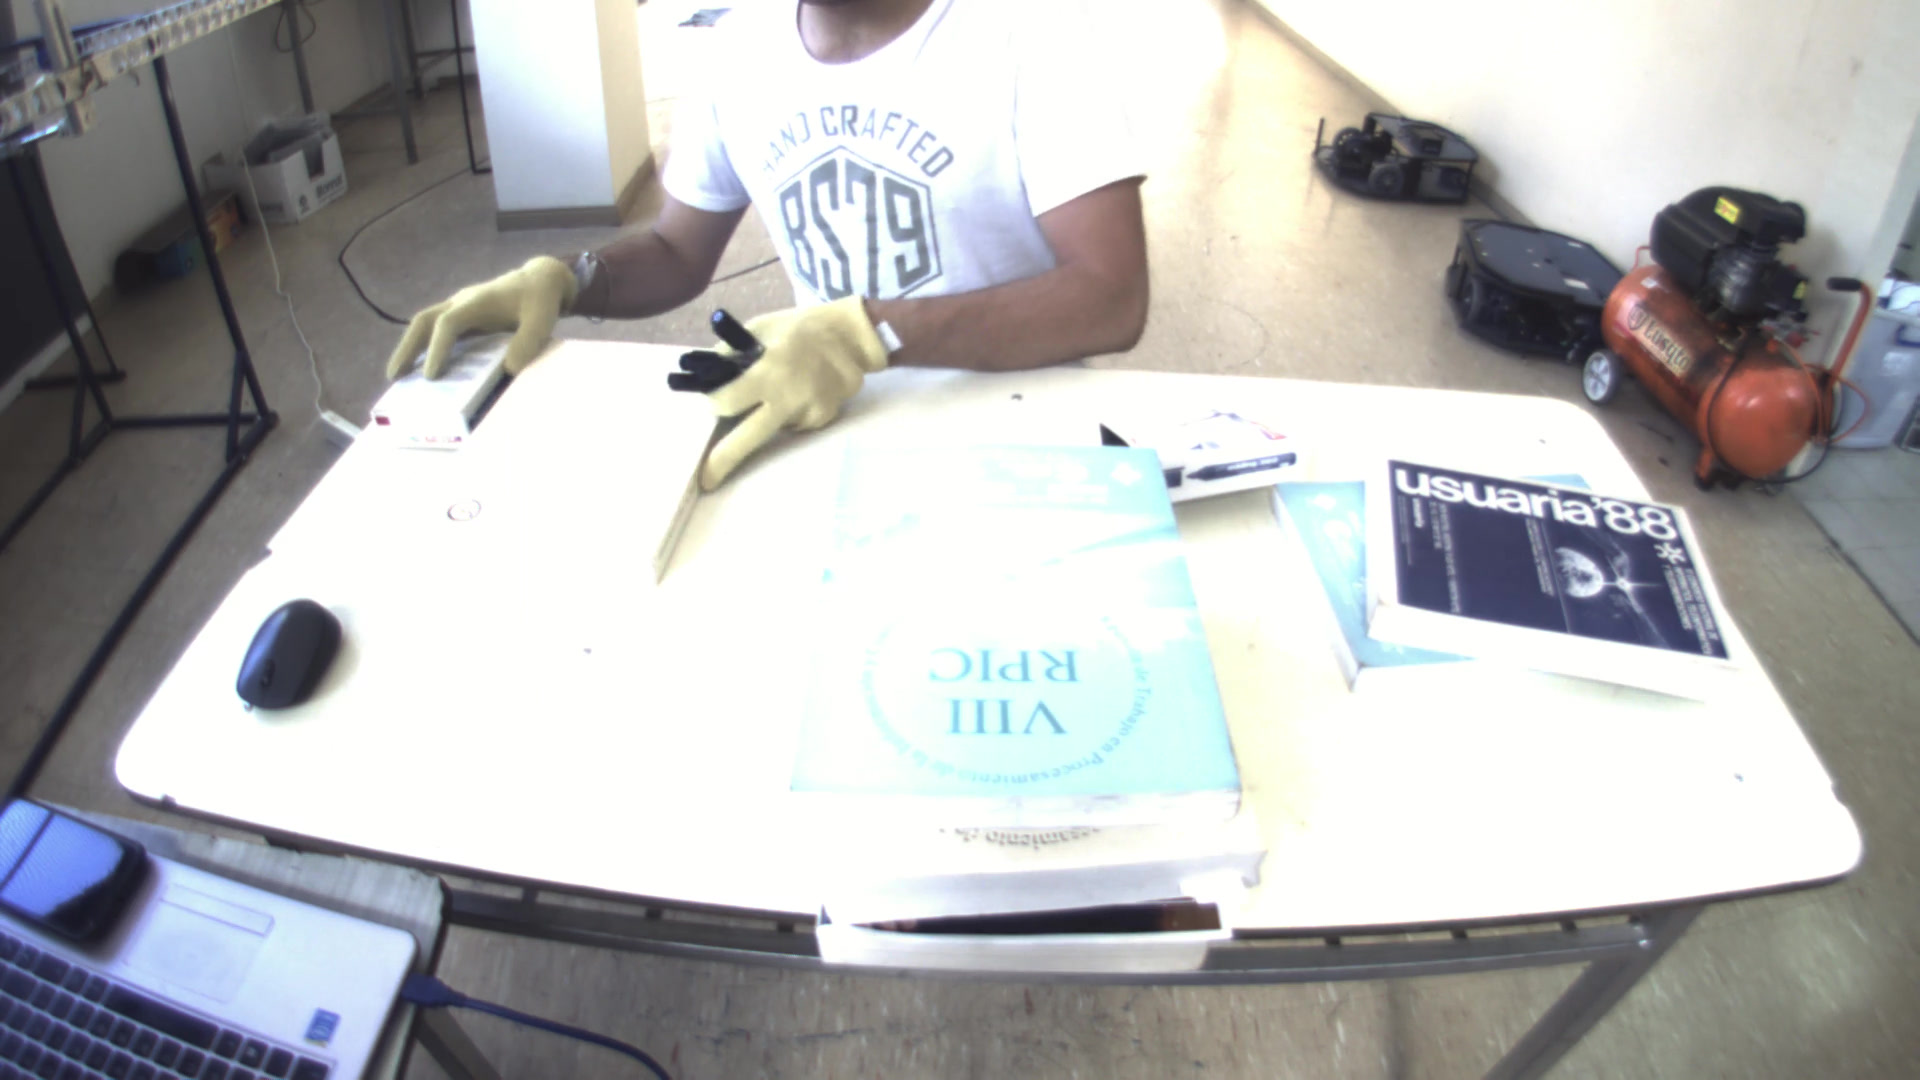hand: (674, 282, 899, 502), (377, 237, 580, 402)
